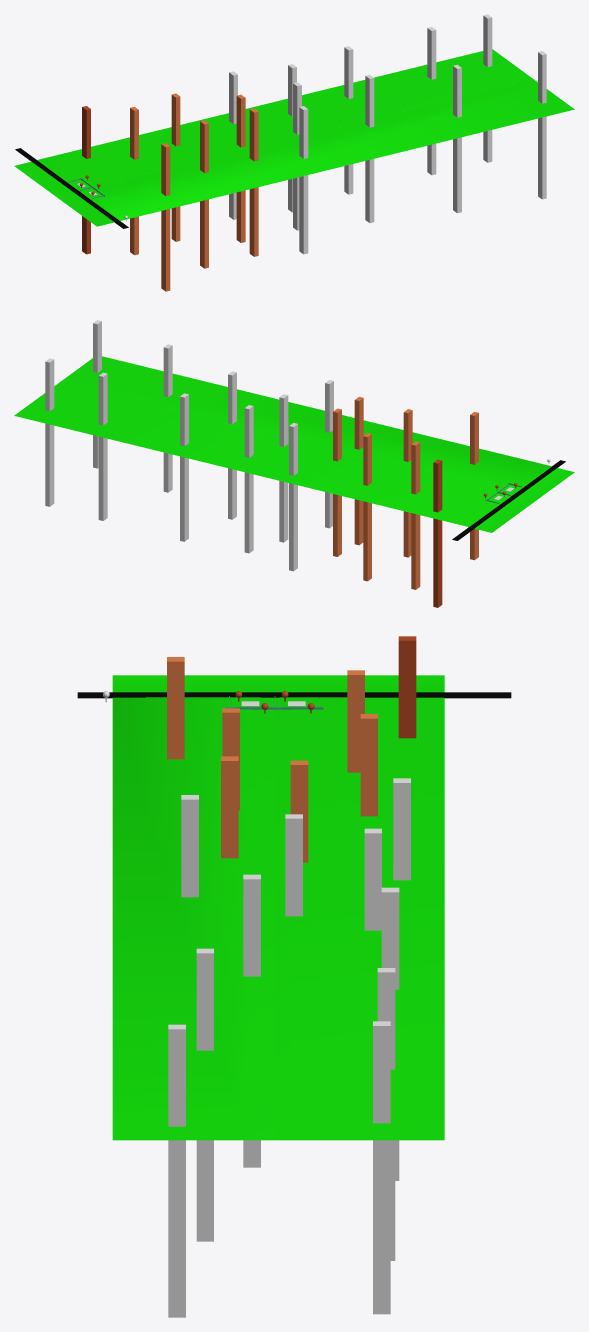
3 views of the same model, one above another, from view 1: azimuth 30°, elevation 25°; view 2: azimuth 150°, elevation 25°; view 3: azimuth 270°, elevation 25° (orthographic). The views are drawn at different scales.
Parts seen in each view (by area): view 1: Plane.001, Cube.012, Cube.015, Cube.021, Cube.010, Cube.016, Cube.019, Cube.001, Cube.008, Cube.007, Cube.022, Cube.020 (+7 smaller); view 2: Plane.001, Cube.013, Cube.020, Cube.022, Cube.009, Cube.011, Cube.014, Cube.018, Cube.007, Cube.017, Cube.008, Cube.010 (+7 smaller); view 3: Plane.001, Cube.021, Cube.022, Cube.019, Cube.016, Cube.020, Cube.013, Cube, Cube.010, Cube.012, Cube.014, Cube.015 (+7 smaller).
Boxes of the visible parts, x1,y1,x2,y2 form: Plane.001: (14, 49, 574, 226); Cube.012: (161, 143, 170, 291); Cube.015: (299, 106, 308, 254); Cube.021: (538, 51, 546, 199); Cube.010: (249, 108, 258, 256); Cube.016: (365, 74, 374, 222); Cube.019: (453, 64, 461, 213); Cube.001: (200, 120, 208, 268); Cube.008: (236, 94, 245, 242); Cube.007: (171, 93, 180, 241); Cube.022: (483, 14, 492, 162); Cube.020: (427, 27, 436, 175); Plane.001: (14, 356, 574, 532); Cube.013: (433, 459, 442, 607); Cube.020: (98, 372, 107, 520); Cube.022: (45, 358, 54, 506); Cube.009: (244, 405, 253, 553); Cube.011: (411, 441, 420, 589); Cube.014: (289, 423, 297, 571); Cube.018: (180, 393, 188, 541); Cube.007: (363, 433, 371, 581); Cube.017: (279, 394, 288, 542); Cube.008: (333, 408, 341, 556); Cube.010: (354, 397, 363, 545); Plane.001: (112, 675, 444, 1140); Cube.021: (168, 1024, 185, 1317); Cube.022: (373, 1021, 390, 1314); Cube.019: (196, 948, 213, 1241); Cube.016: (243, 874, 260, 1167); Cube.020: (377, 968, 395, 1260); Cube.013: (398, 636, 416, 738); Cube: (77, 693, 511, 698); Cube.010: (221, 756, 238, 858); Cube.012: (167, 657, 184, 759); Cube.014: (393, 778, 410, 880); Cube.015: (181, 795, 198, 897).
Bounding box in the file's own units: 398023 × 114815 × 156373.
